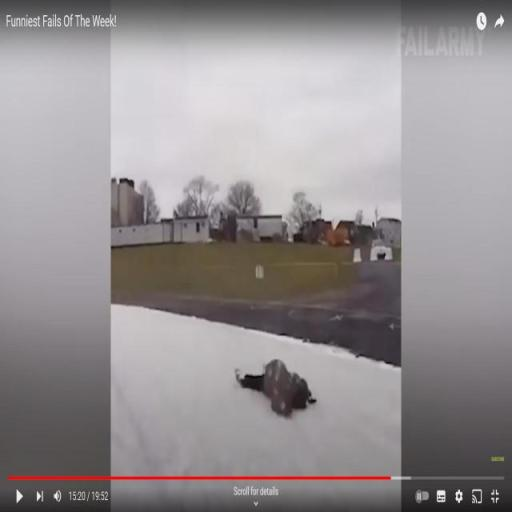Fall: (232, 354, 313, 419)
